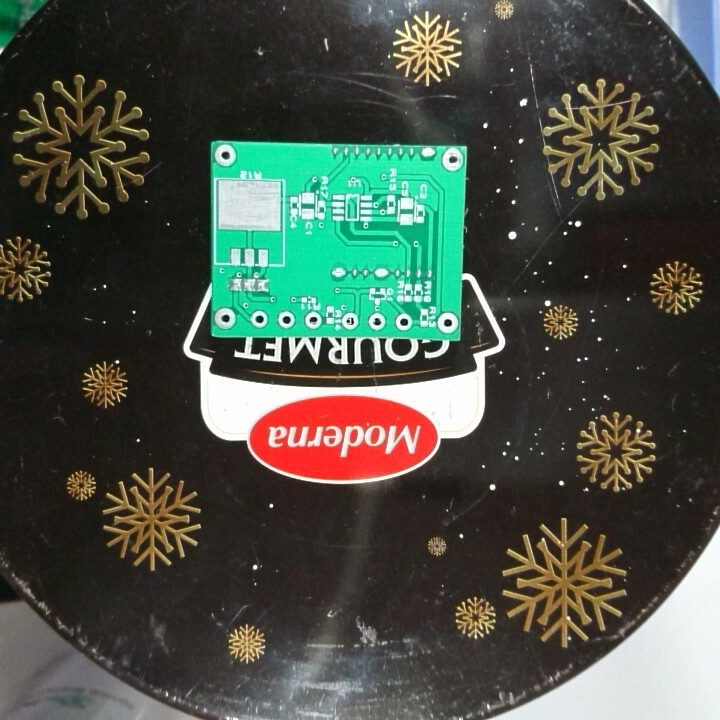F: (213, 305, 239, 332), (213, 143, 239, 169), (439, 146, 464, 172), (435, 309, 459, 335), (274, 309, 298, 331), (248, 308, 271, 330), (302, 309, 323, 332), (340, 311, 361, 332), (366, 312, 387, 332), (393, 312, 414, 332)
P: (328, 263, 349, 282), (418, 144, 439, 163), (371, 264, 391, 281)
